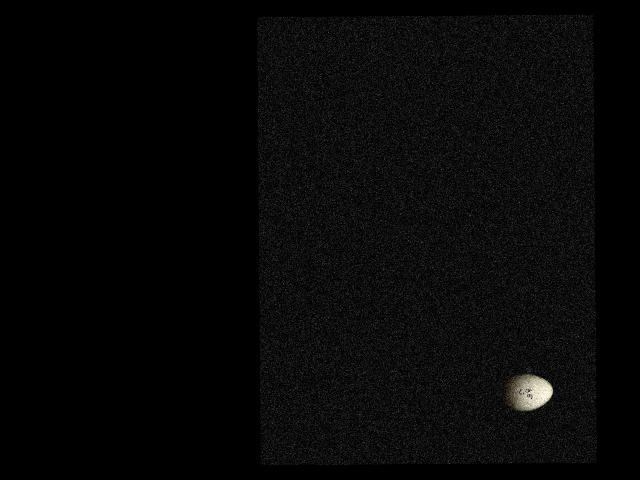egg: (503, 374, 553, 411)
